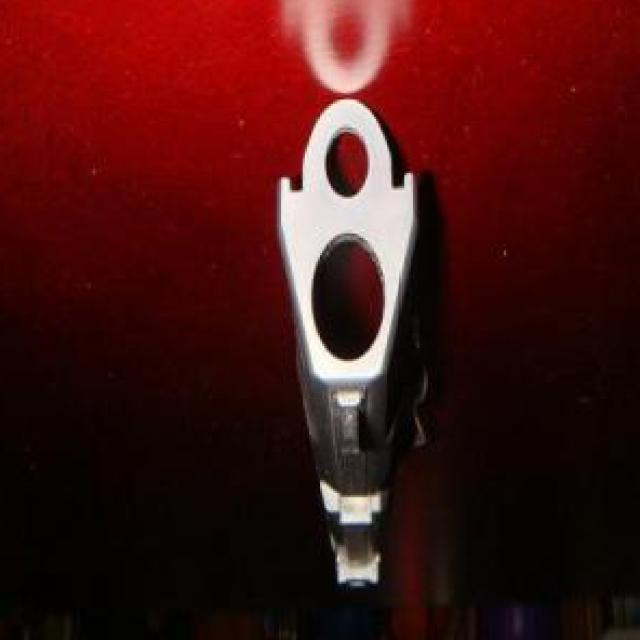pistol: (276, 100, 434, 594)
